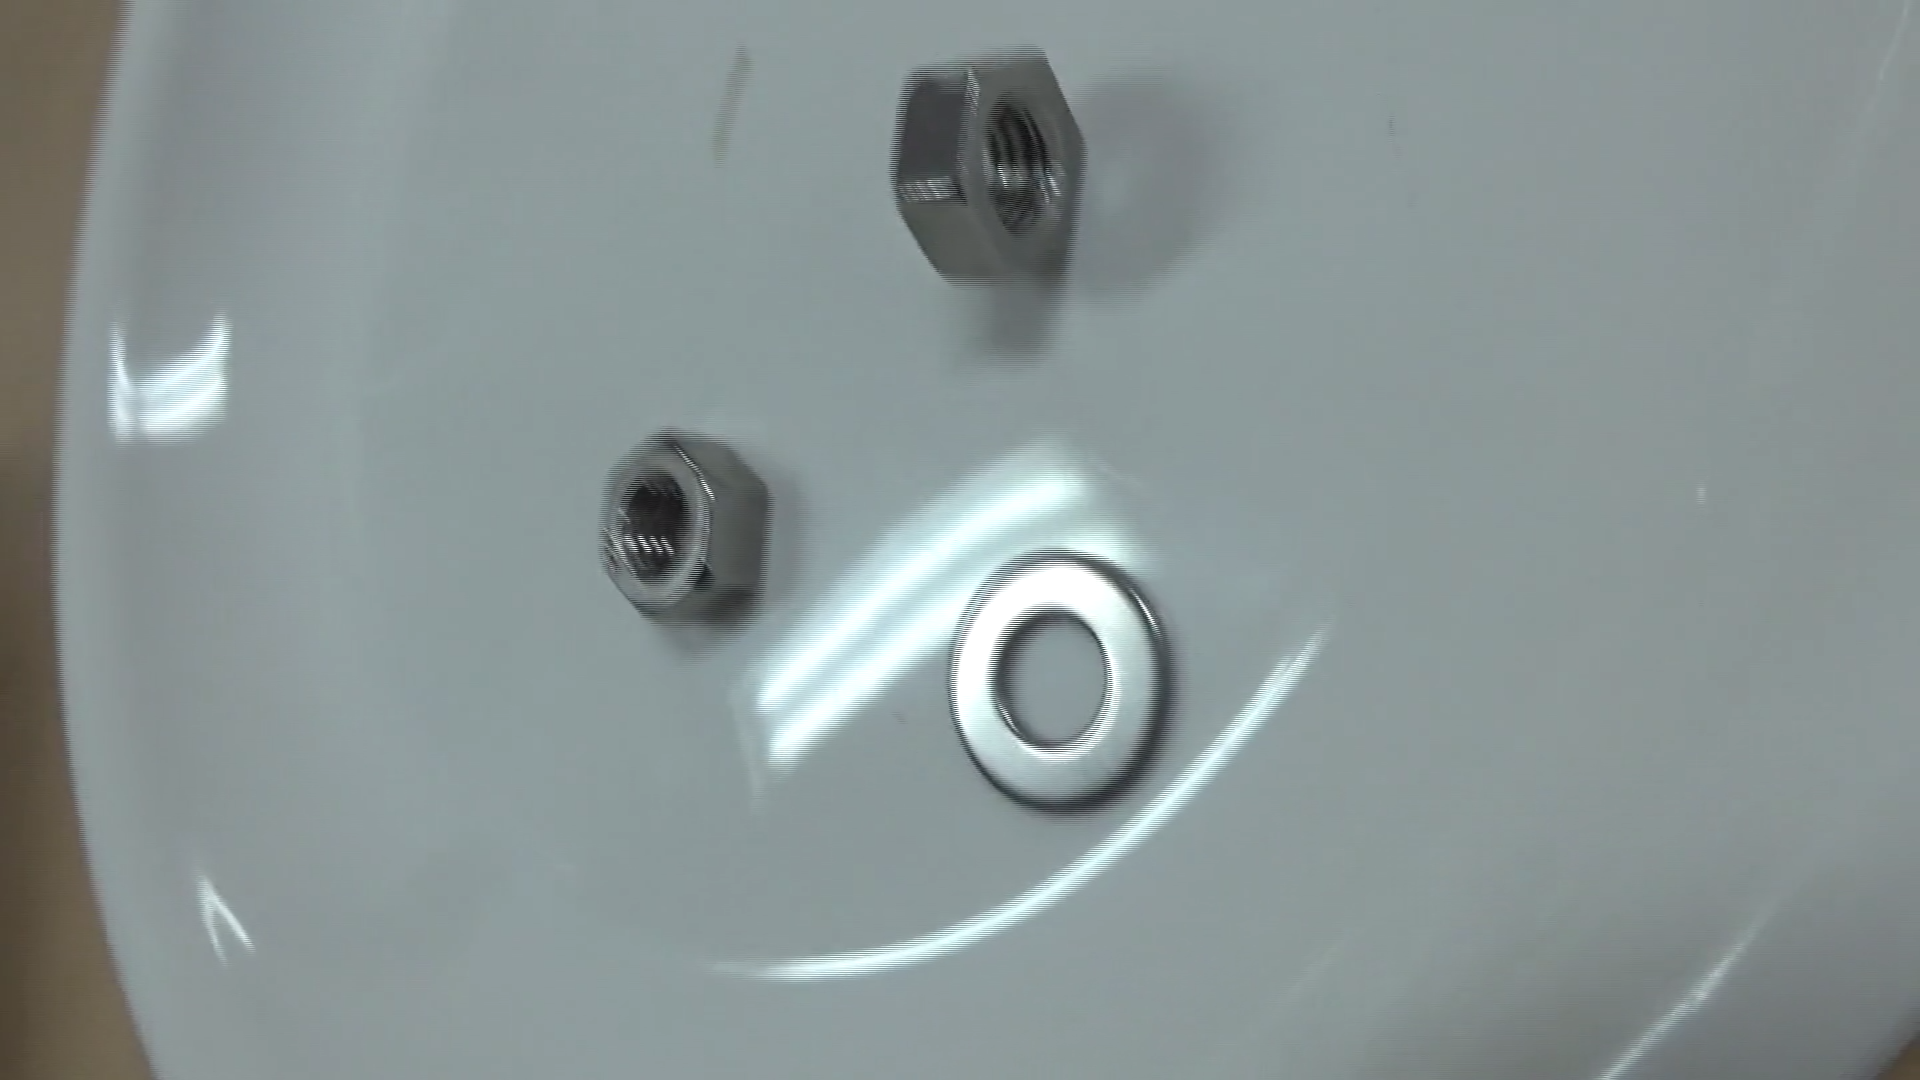nut: (861, 37, 1122, 298), (574, 417, 785, 646)
washer: (919, 541, 1189, 824)
